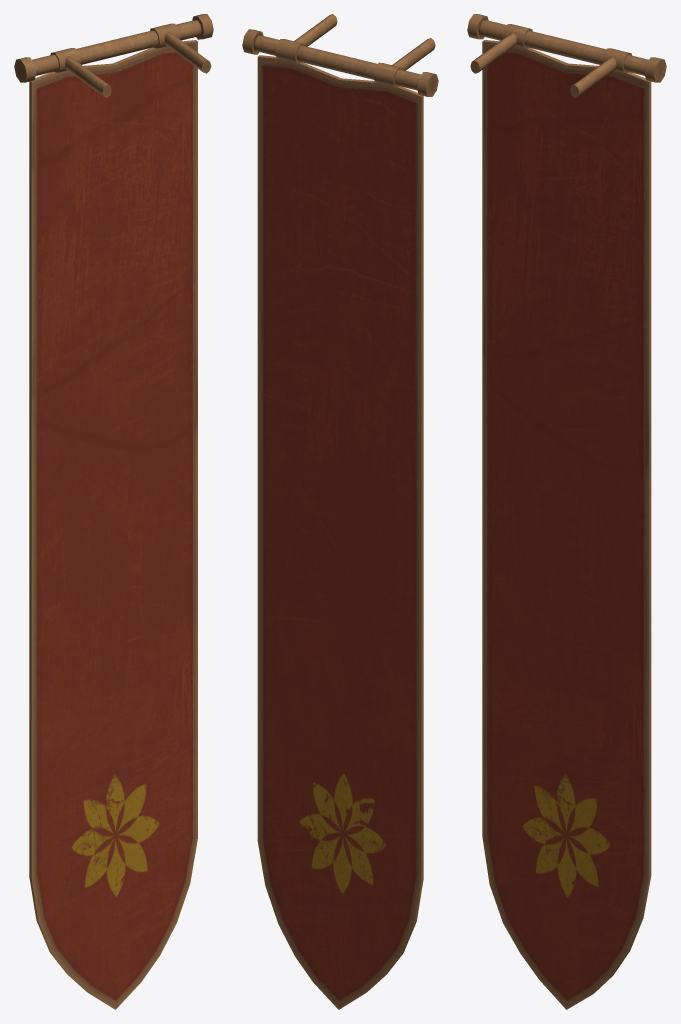
The model's file is ARC0510109.fbx.
3 renders of one model, left to right at view 1: azimuth 30°, elevation 25°; view 2: azimuth 150°, elevation 25°; view 3: azimuth 330°, elevation 25°, orthographic.
Parts seen in each view (by area): view 1: smARC0510109; view 2: smARC0510109; view 3: smARC0510109.
Boxes of the visible parts, x1,y1,x2,y2 form: smARC0510109: (14,14,213,1009); smARC0510109: (242,14,438,1009); smARC0510109: (467,14,666,1009).
Bounding box in the file's own units: 77.47 × 385 × 35.13.
Materials: 1 (1 with a texture image).
